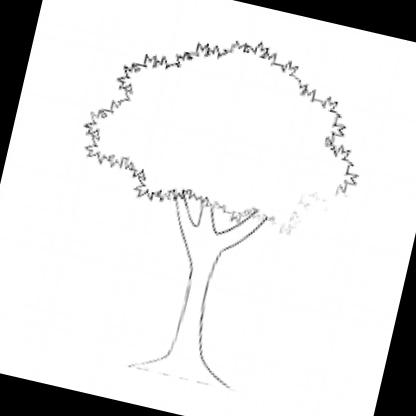branch_cut: (160, 176, 272, 260)
crown_cloud: (74, 9, 383, 247)
root_only: (124, 344, 242, 402)
trunk_straight: (168, 267, 224, 351)
